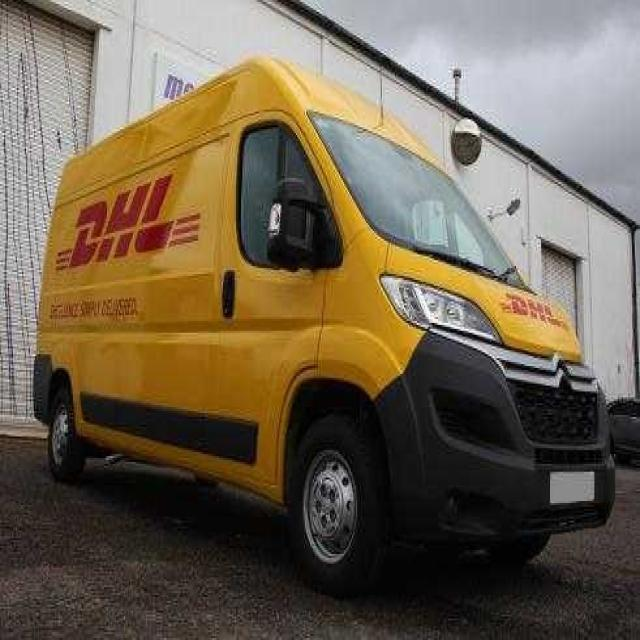car: (34, 52, 617, 598)
